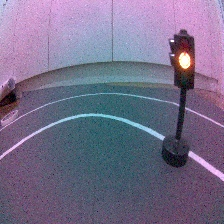amber: (161, 28, 198, 170)
